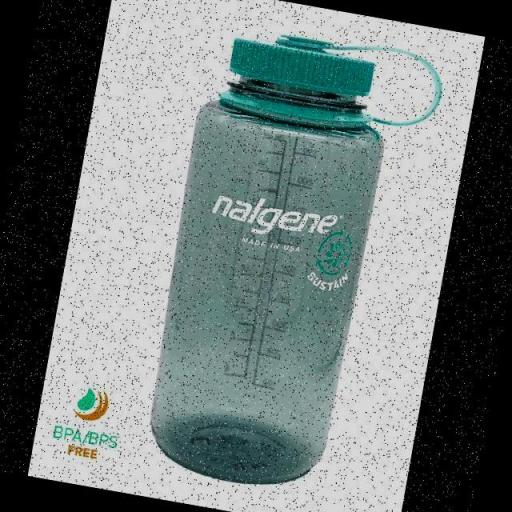bottle: (135, 21, 402, 498)
